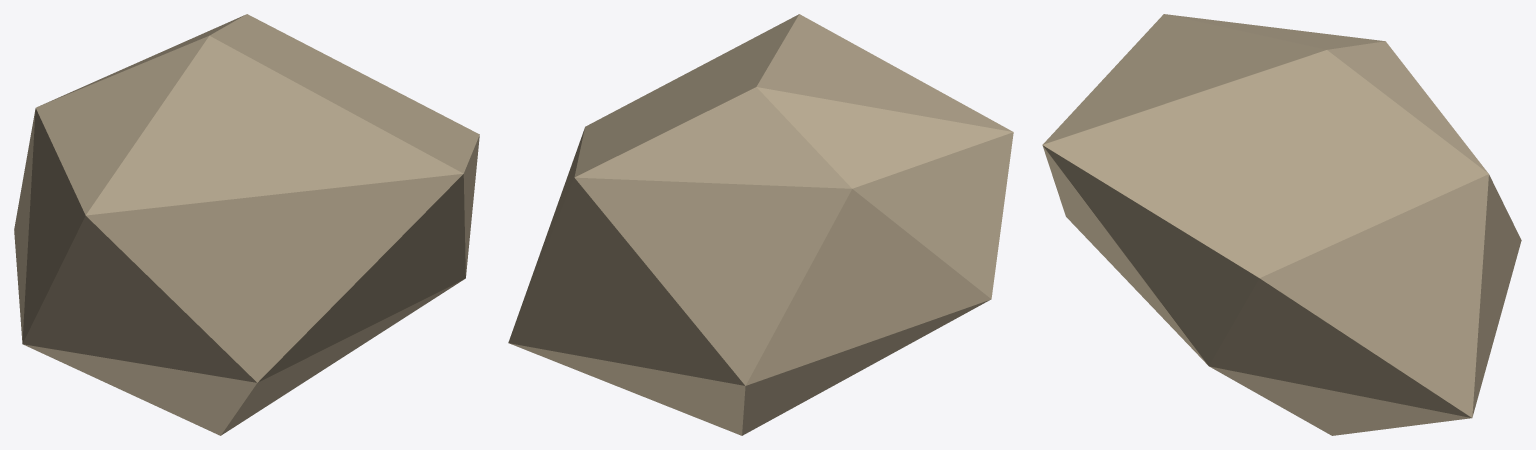
The model's file is rock0.glb.
The picture shows the model from 3 angles, left to right: view 1: azimuth 30°, elevation 25°; view 2: azimuth 150°, elevation 25°; view 3: azimuth 270°, elevation 25°; orthographic projection. The views are drawn at different scales.
Visible parts, largest first — view 1: rock0; view 2: rock0; view 3: rock0.
Part boxes in pixels (<box>): rock0: <box>14,14,479,435</box>; rock0: <box>508,14,1013,435</box>; rock0: <box>1042,14,1521,435</box>.
Size of the model in its own units: 1.2 by 1 by 1.15.
